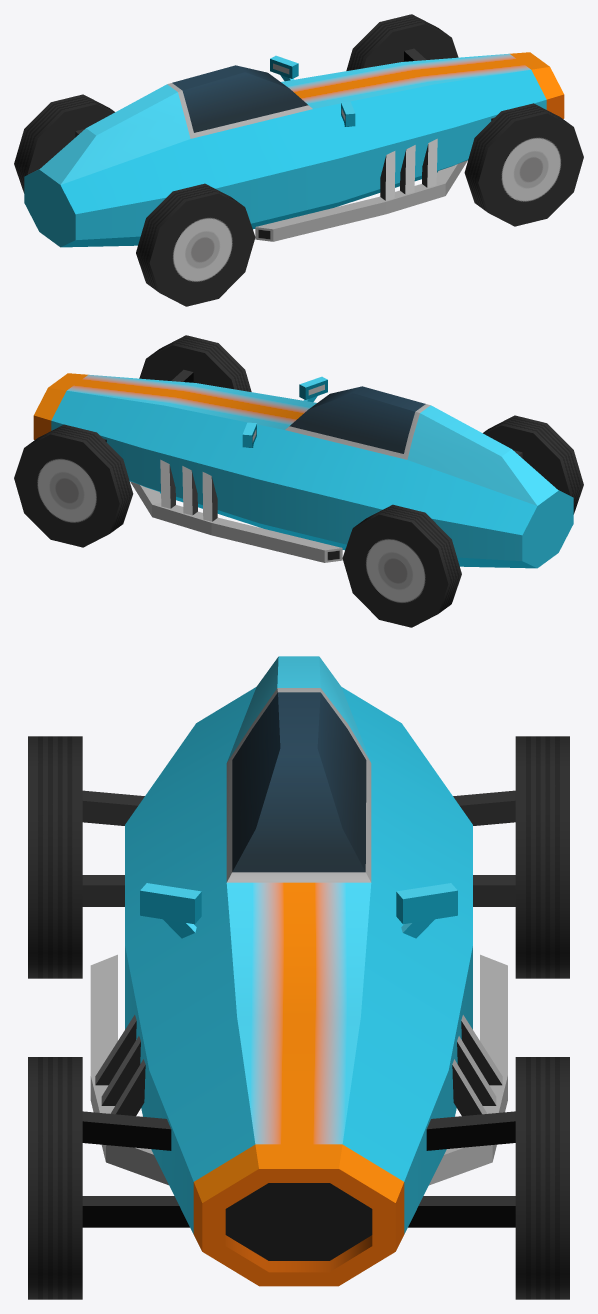
File: RaceCar_106.glb
3 renders of one model, top to bottom at view 1: azimuth 30°, elevation 25°; view 2: azimuth 150°, elevation 25°; view 3: azimuth 270°, elevation 25°, orthographic. The views are drawn at different scales.
Visible parts, largest first — view 1: RaceCar_106, wheel_3_RaceCar_106_Wheel_2R, wheel_1_RaceCar_106_Wheel_1R, wheel_2_RaceCar_106_Wheel_2L, wheel_0_RaceCar_106_Wheel_1L; view 2: RaceCar_106, wheel_0_RaceCar_106_Wheel_1L, wheel_2_RaceCar_106_Wheel_2L, wheel_3_RaceCar_106_Wheel_2R, wheel_1_RaceCar_106_Wheel_1R; view 3: RaceCar_106, wheel_0_RaceCar_106_Wheel_1L, wheel_1_RaceCar_106_Wheel_1R, wheel_2_RaceCar_106_Wheel_2L, wheel_3_RaceCar_106_Wheel_2R.
Boxes of the visible parts, x1,y1,x2,y2 form: RaceCar_106: [24, 48, 564, 247]; wheel_3_RaceCar_106_Wheel_2R: [136, 183, 255, 306]; wheel_1_RaceCar_106_Wheel_1R: [464, 103, 583, 226]; wheel_2_RaceCar_106_Wheel_2L: [14, 94, 114, 193]; wheel_0_RaceCar_106_Wheel_1L: [346, 14, 458, 70]; RaceCar_106: [33, 369, 573, 568]; wheel_0_RaceCar_106_Wheel_1L: [14, 424, 133, 547]; wheel_2_RaceCar_106_Wheel_2L: [342, 504, 461, 627]; wheel_3_RaceCar_106_Wheel_2R: [483, 415, 583, 514]; wheel_1_RaceCar_106_Wheel_1R: [139, 335, 251, 391]; RaceCar_106: [82, 656, 515, 1286]; wheel_0_RaceCar_106_Wheel_1L: [515, 1057, 569, 1299]; wheel_1_RaceCar_106_Wheel_1R: [28, 1057, 82, 1299]; wheel_2_RaceCar_106_Wheel_2L: [515, 736, 569, 978]; wheel_3_RaceCar_106_Wheel_2R: [28, 736, 82, 978].
Bounding box in the file's own units: 3.77 × 1.17 × 1.8.
Materials: 1 (1 with a texture image).
